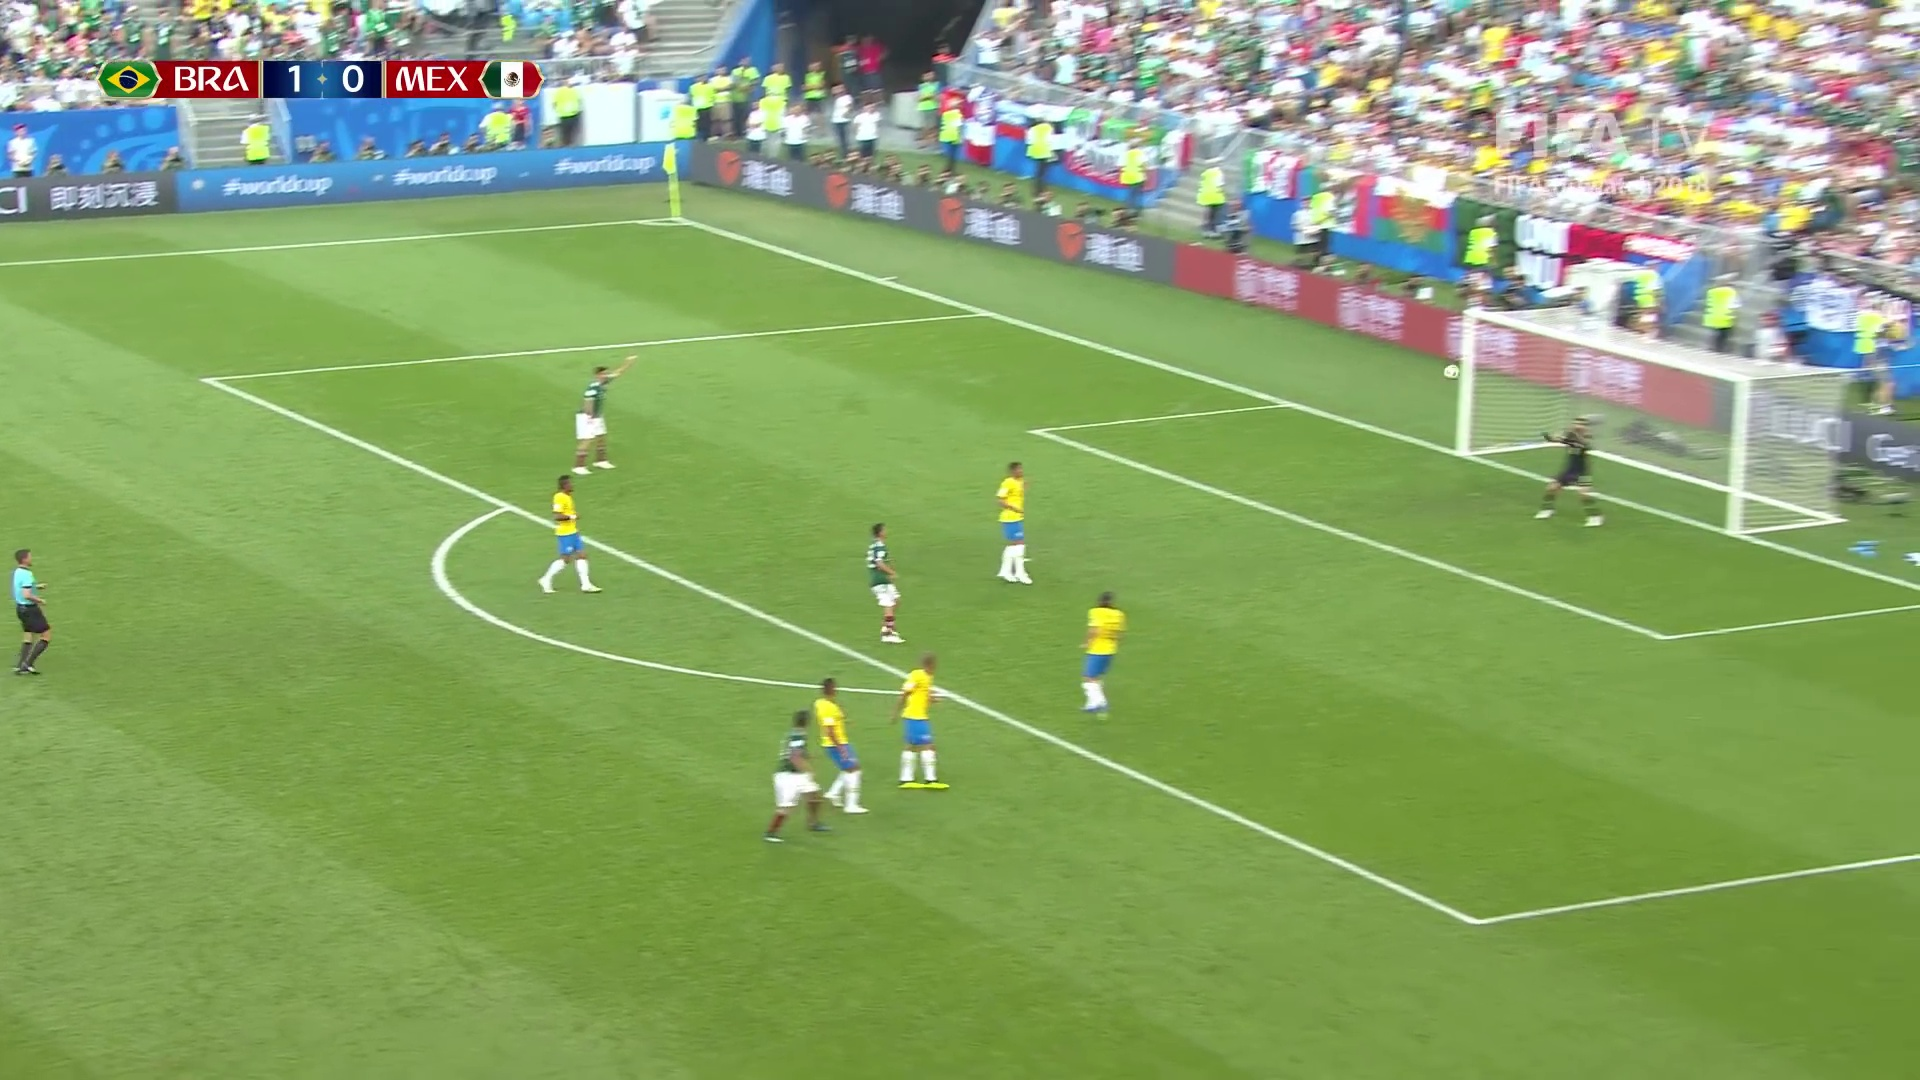ball: (1443, 363, 1458, 378)
person: (539, 476, 602, 594), (890, 657, 947, 786), (815, 679, 869, 814), (769, 712, 827, 836), (569, 353, 624, 475), (1540, 424, 1600, 525), (1081, 591, 1124, 721), (867, 523, 909, 643), (996, 464, 1031, 584)
